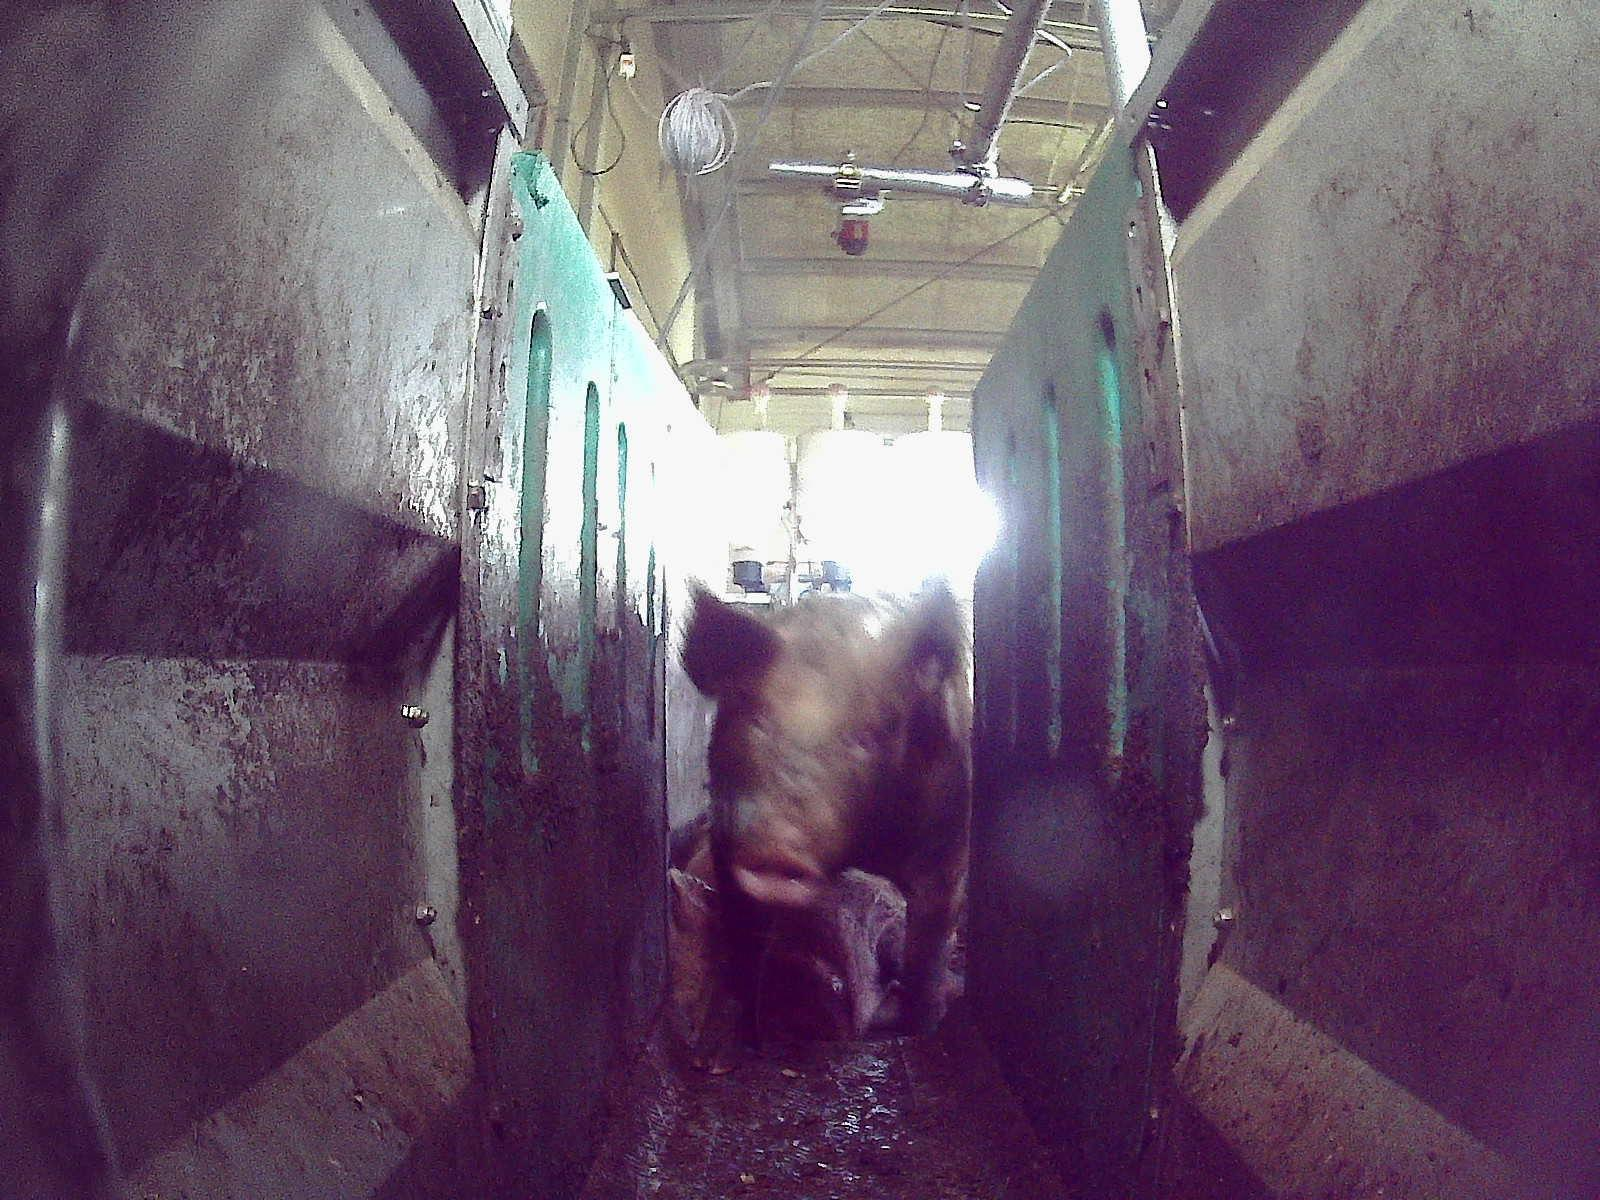Face: (721, 654, 894, 906)
